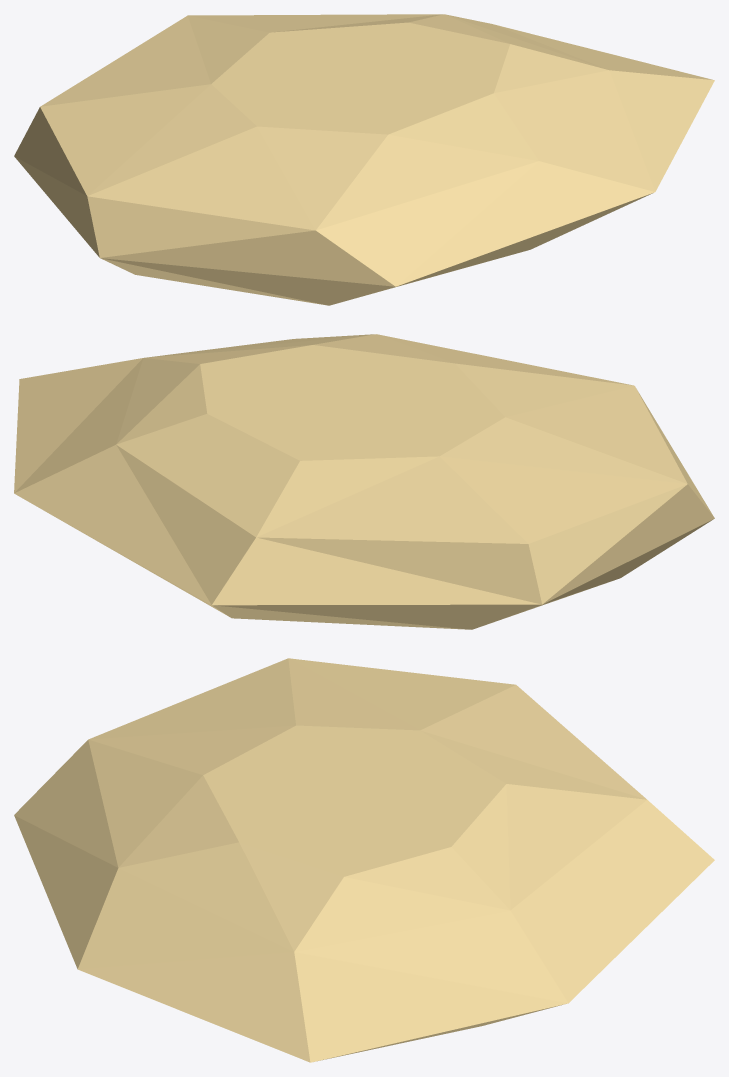
The model's file is sand_dune_b.fbx.
3 views of the same model, one above another, from view 1: azimuth 30°, elevation 25°; view 2: azimuth 150°, elevation 25°; view 3: azimuth 270°, elevation 25° (orthographic). The views are drawn at different scales.
Visible parts, largest first — view 1: sand_dune_b; view 2: sand_dune_b; view 3: sand_dune_b.
Boxes of the visible parts, left/top/right/bottom form: sand_dune_b: left=14, top=14, right=714, bottom=305; sand_dune_b: left=14, top=334, right=714, bottom=629; sand_dune_b: left=14, top=658, right=714, bottom=1062.
Size of the model in its own units: 6 by 1.1 by 5.
